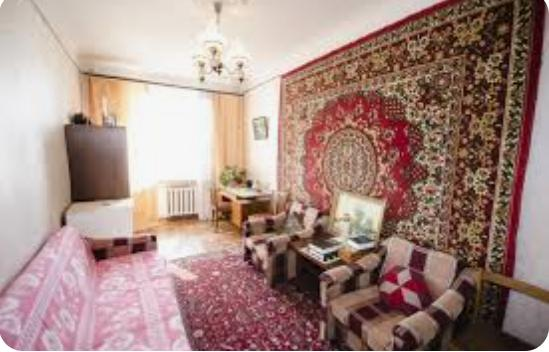carpet: (175, 257, 330, 351)
